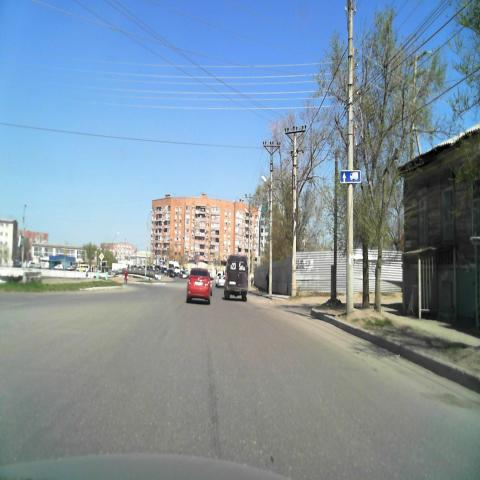6_15_1: (340, 170, 361, 183)
